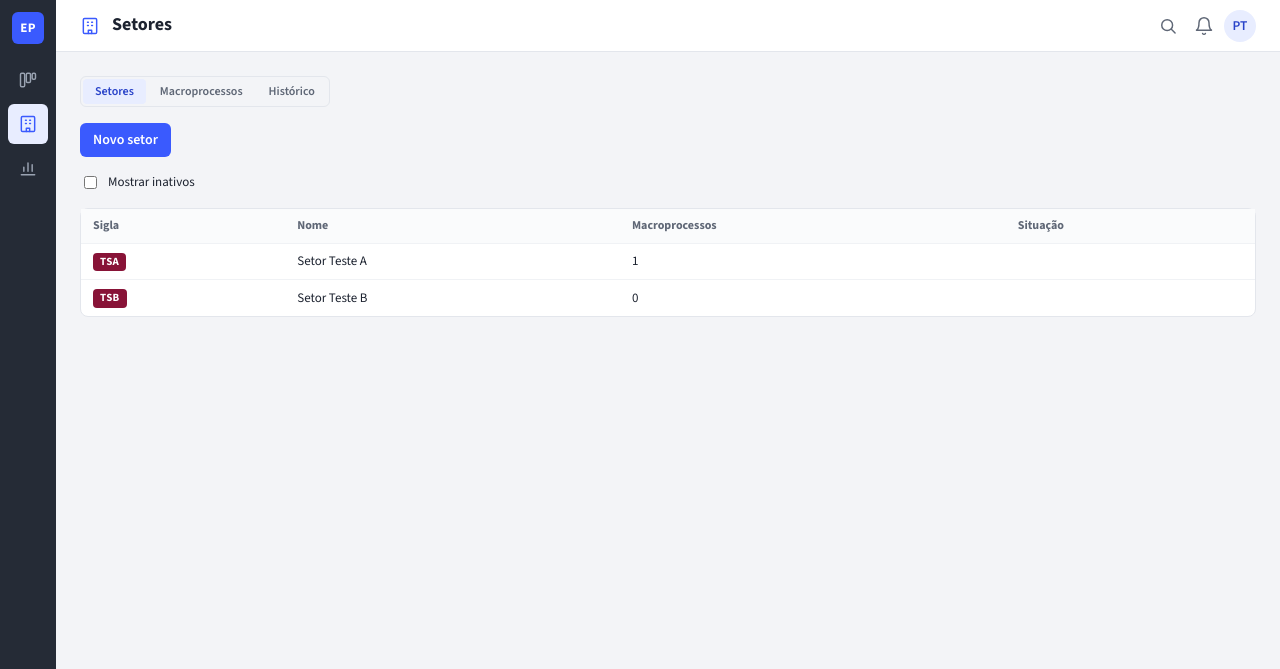
Test: trocar a cor e salvar grava a cor escolhida
Click the button "TSA": (110, 262) x1=93 y1=252 x2=126 y2=271
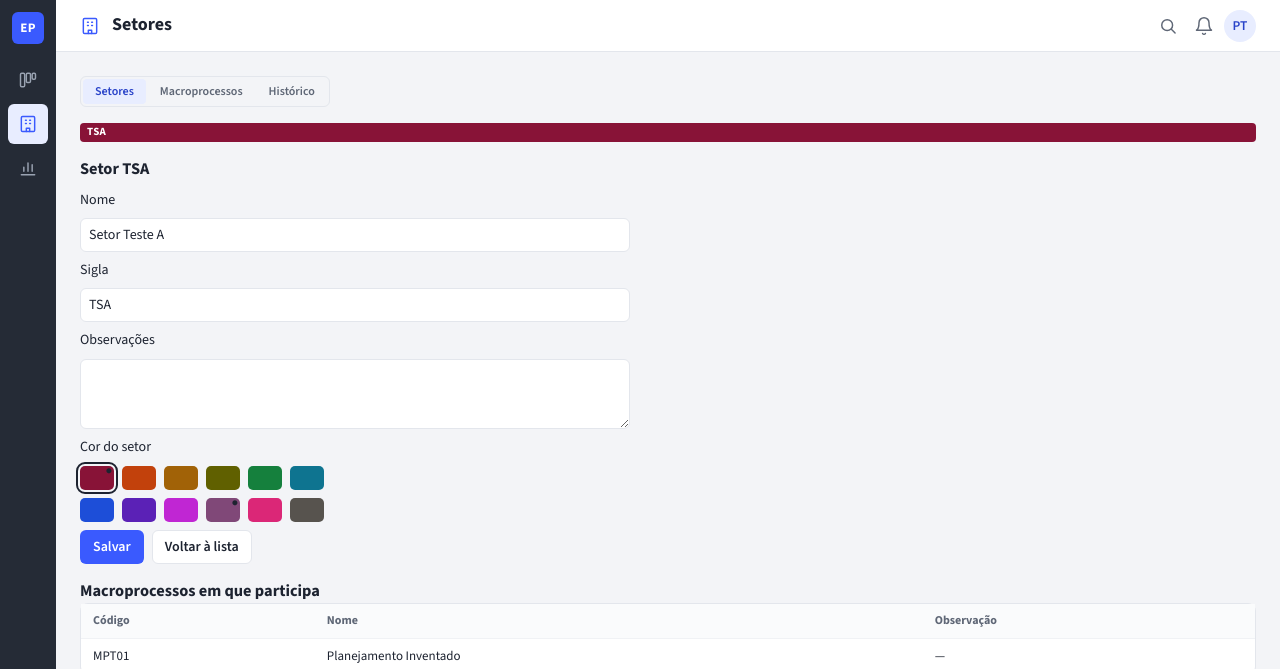
Click the radio button named "oliva": (223, 478) x1=206 y1=466 x2=240 y2=490
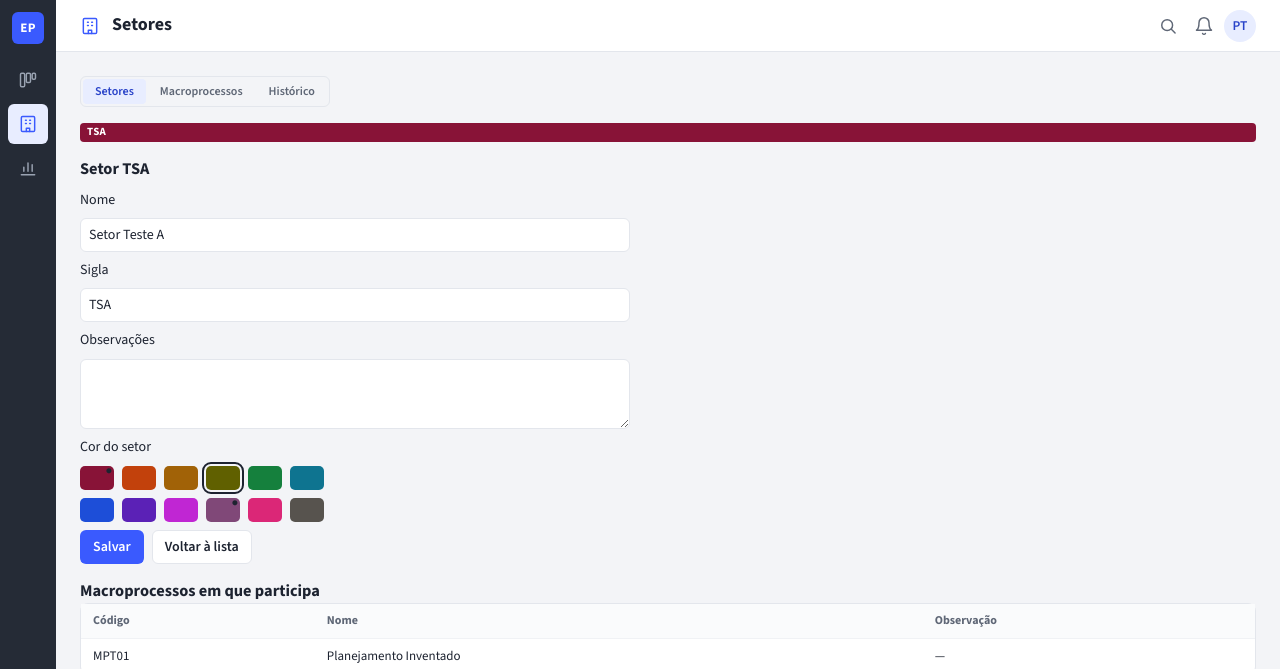
Click the button "Salvar": (112, 547) x1=80 y1=530 x2=144 y2=564
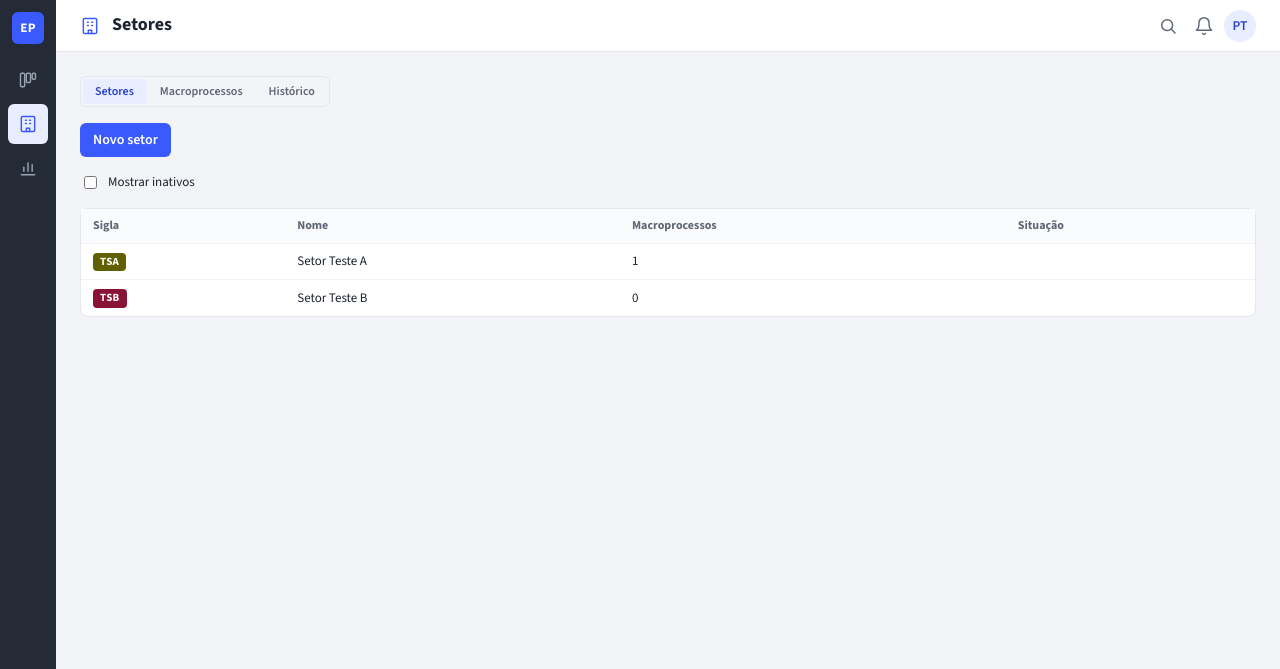
Result: the button "TSB" is shown at x1=93 y1=288 x2=126 y2=308
